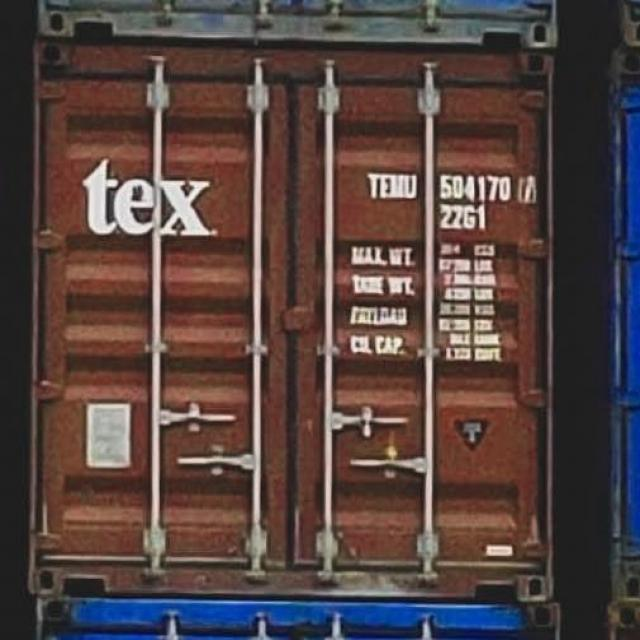ISO: (442, 207, 487, 233)
container_number: (370, 172, 534, 202)
